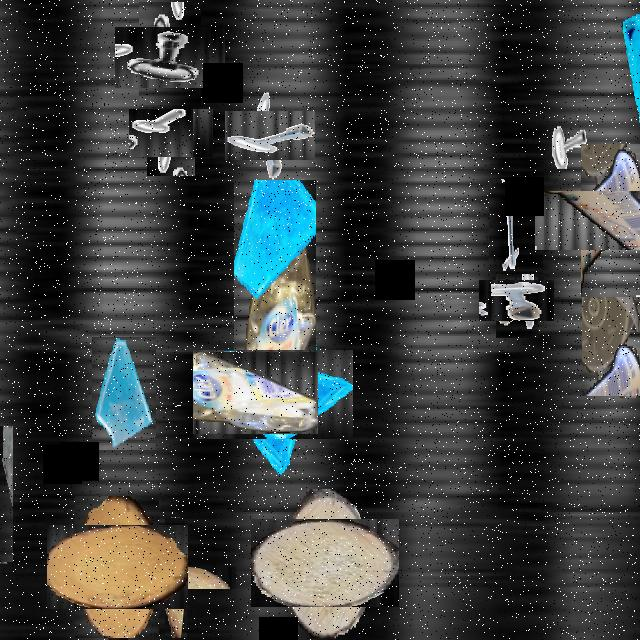glass: (210, 332, 336, 457), (92, 338, 156, 452), (621, 2, 640, 165), (0, 426, 13, 562)
metal: (127, 14, 213, 100), (489, 180, 543, 276), (235, 100, 305, 170), (540, 76, 592, 169), (138, 100, 204, 167), (488, 271, 546, 330)
plastic: (234, 180, 316, 439), (582, 240, 640, 396), (557, 167, 640, 273)
wood: (266, 504, 384, 623), (60, 511, 174, 624), (140, 542, 212, 614)
